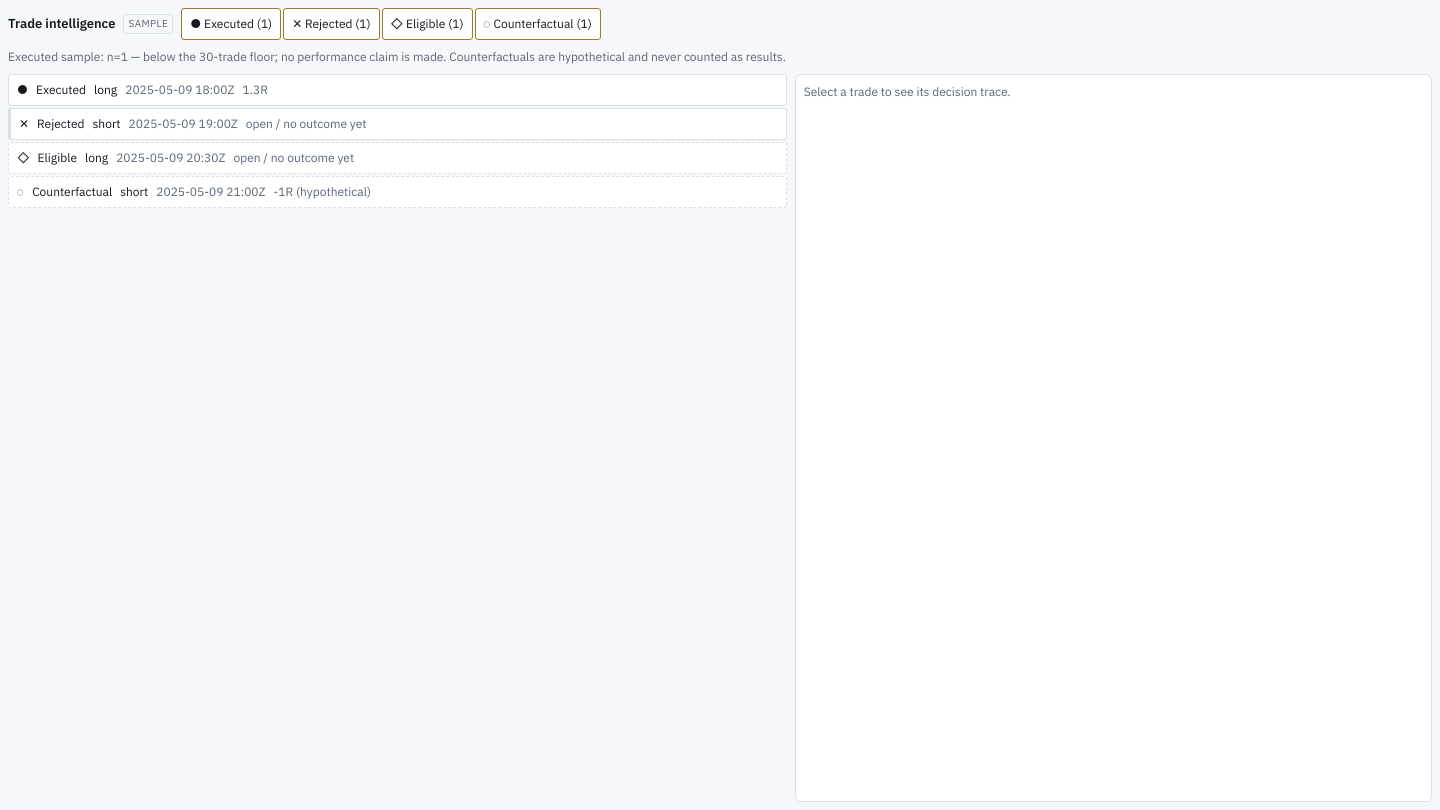
it: F10 journal UI › selecting a trade shows its decision trace
Expected: the list named "Trades" is shown, [8,74,787,208]
Click the button "✕ Rejected short 2025-05-09 19:00Z open / no outcome yet": (61, 124) [8,108,787,140]
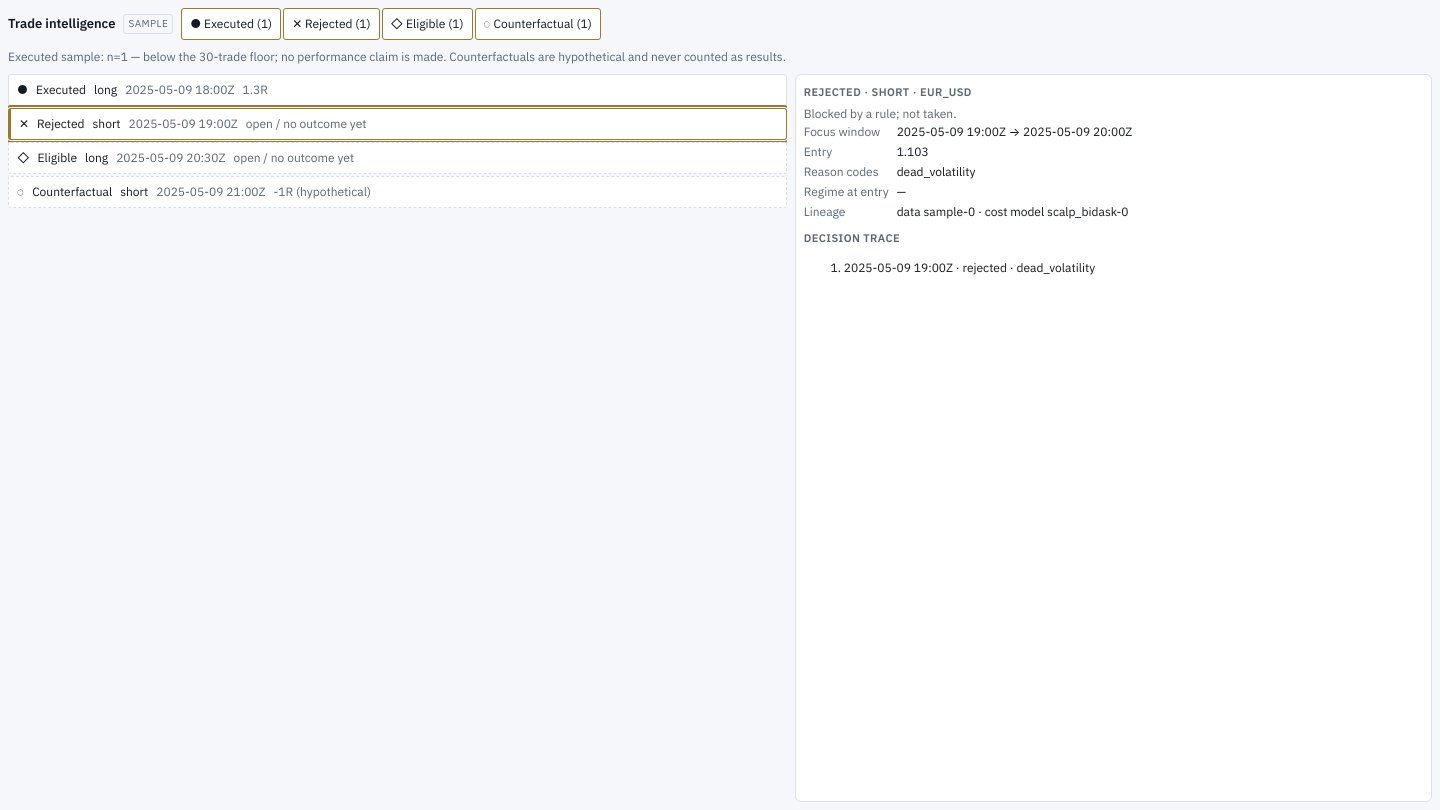
Expected: the list named "Decision trace" shows "dead_volatility", [1016,260,1095,275]
